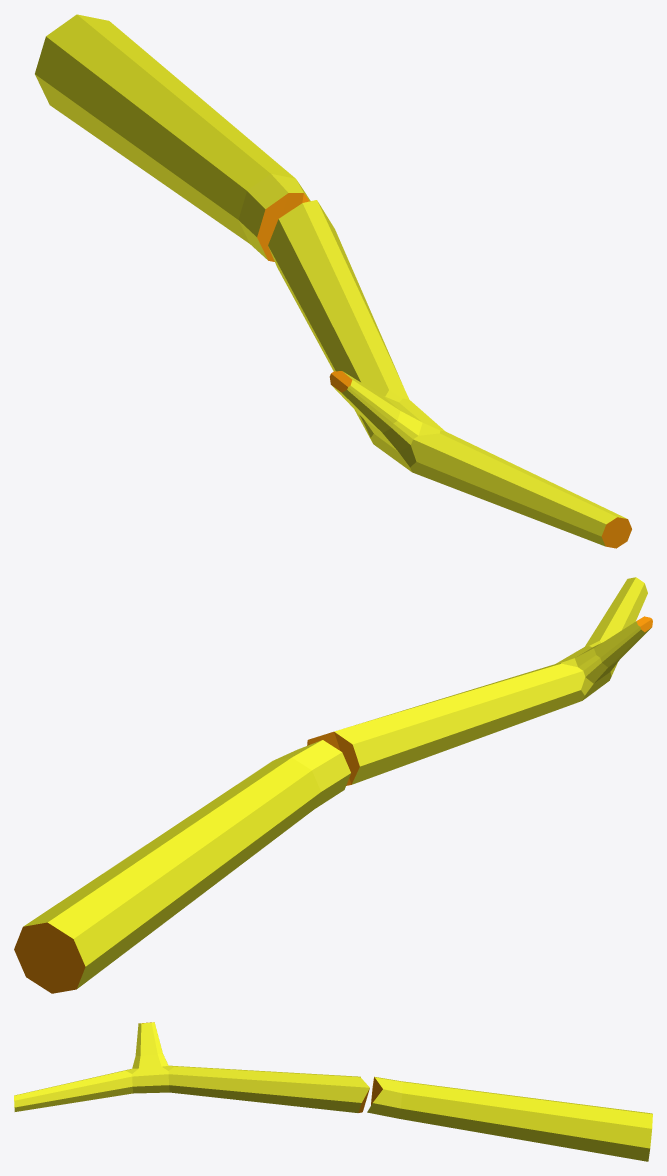
The model's file is Stick_40.fbx.
3 views of the same model, one above another, from view 1: azimuth 30°, elevation 25°; view 2: azimuth 150°, elevation 25°; view 3: azimuth 270°, elevation 25° (orthographic). The views are drawn at different scales.
Visible parts, largest first — view 1: Circle.334, Circle.323; view 2: Circle.334, Circle.323; view 3: Circle.334, Circle.323.
Boxes of the visible parts, x1,y1,x2,y2 form: Circle.334: (35, 14, 310, 261); Circle.323: (268, 200, 631, 548); Circle.334: (14, 740, 350, 993); Circle.323: (307, 577, 652, 785); Circle.334: (367, 1076, 652, 1161); Circle.323: (14, 1022, 369, 1112).
Size of the model in its own units: 11.09 by 5.86 by 42.03.
